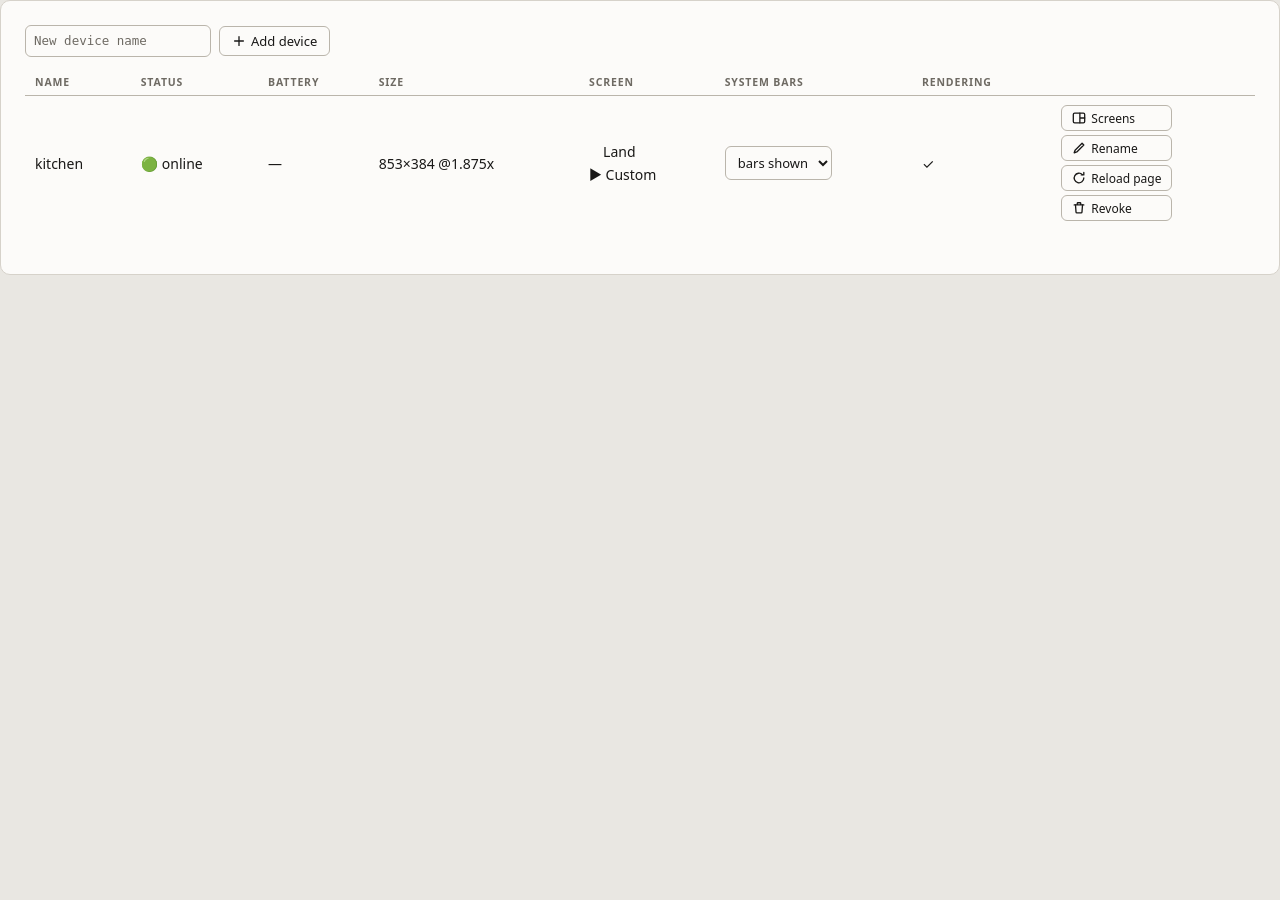
Test: Devices page — tabs editor › disables the up button on the first row and the down button on the last
expect the text "kitchen" is shown: met, box x1=25 y1=96 x2=131 y2=230
Click the button with aria-label "Screens for kitchen" at (1117, 118), box x1=1061 y1=105 x2=1172 y2=131
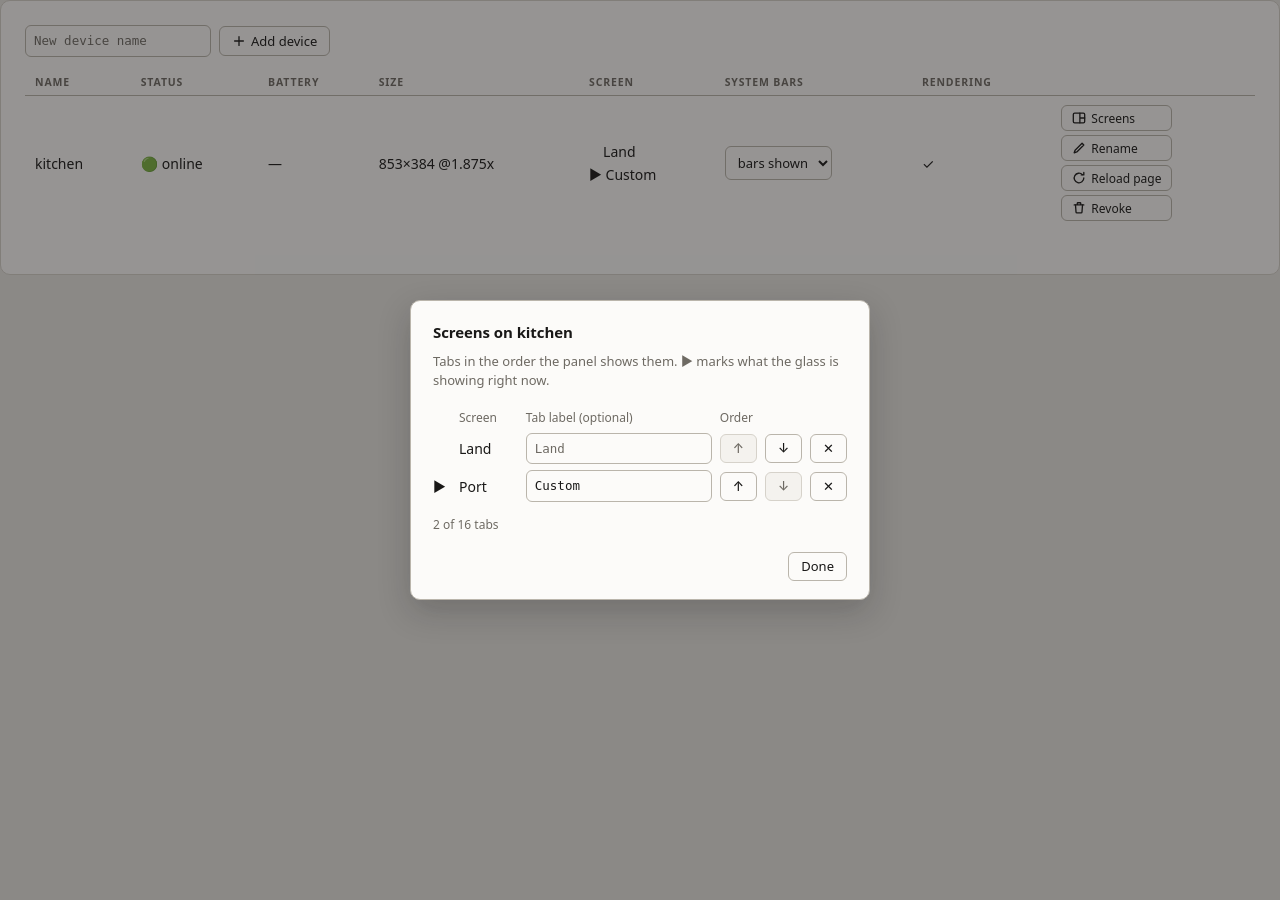
expect the button named "Move Land down on kitchen" is enabled: met, box x1=765 y1=434 x2=802 y2=463
expect the button named "Move Land up on kitchen" is disabled: met, box x1=720 y1=434 x2=757 y2=463
expect the button named "Move Port up on kitchen" is enabled: met, box x1=720 y1=472 x2=757 y2=500
